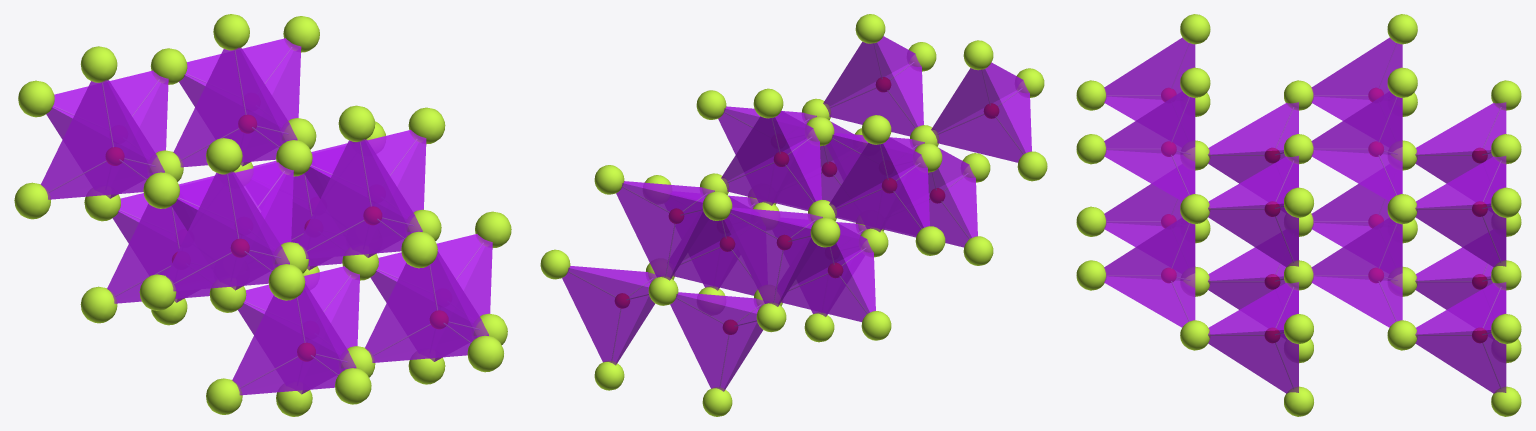
The model's file is beta-AgI.glb.
3 views of the same model, side by side, from view 1: azimuth 30°, elevation 25°; view 2: azimuth 150°, elevation 25°; view 3: azimuth 270°, elevation 25° (orthographic). The views are drawn at different scales.
Parts seen in each view (by area): view 1: Shape_IndexedFaceSet, atom0_IndexedFaceSet, Shape_Cylinder, atom1_IndexedFaceSet; view 2: Shape_IndexedFaceSet, atom0_IndexedFaceSet, atom1_IndexedFaceSet, Shape_Cylinder; view 3: Shape_IndexedFaceSet, atom0_IndexedFaceSet, atom1_IndexedFaceSet, Shape_Cylinder.
Boxes of the visible parts, <box> form: Shape_IndexedFaceSet: <box>40,38,492,395</box>; atom0_IndexedFaceSet: <box>14,14,511,416</box>; Shape_Cylinder: <box>49,47,483,388</box>; atom1_IndexedFaceSet: <box>105,115,448,361</box>; Shape_IndexedFaceSet: <box>562,36,1031,391</box>; atom0_IndexedFaceSet: <box>540,14,1047,416</box>; atom1_IndexedFaceSet: <box>615,77,998,334</box>; Shape_Cylinder: <box>569,44,1023,386</box>; Shape_IndexedFaceSet: <box>1104,37,1506,393</box>; atom0_IndexedFaceSet: <box>1076,14,1521,416</box>; atom1_IndexedFaceSet: <box>1161,88,1487,342</box>; Shape_Cylinder: <box>1107,43,1501,388</box>.
Size of the model in its own units: 14.89 by 11.71 by 16.12.
